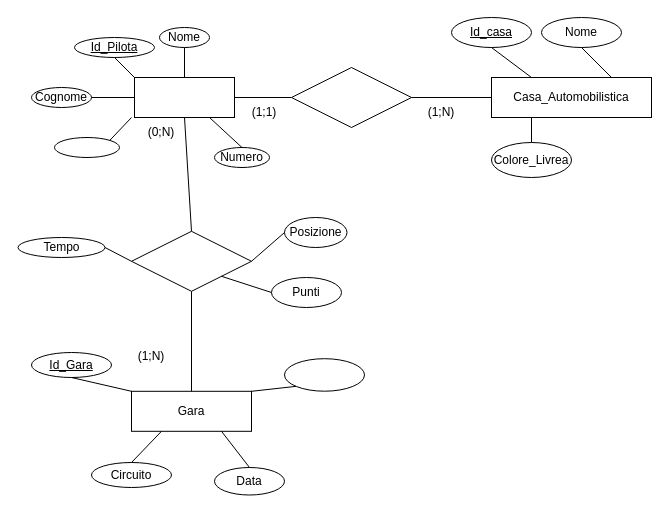
Image size: 669x513. Some labels were removed from this diagram. The shapes that lost their labels are listed below. From the top down, each one's centre as x and y in pixels, then its label:
pixel 184 97: Pilota
pixel 351 97: contratto
pixel 87 147: Nazionalità
pixel 191 260: risultato
pixel 324 374: Nome_Gara
